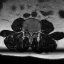CCS_normal: (30, 30, 32, 37)
LFS_severe_stenosis: (33, 30, 35, 34)
LLS_stenosis: (32, 30, 33, 36)
RFS_severe_stenosis: (26, 28, 28, 33)
RLS_stenosis: (28, 29, 30, 35)
